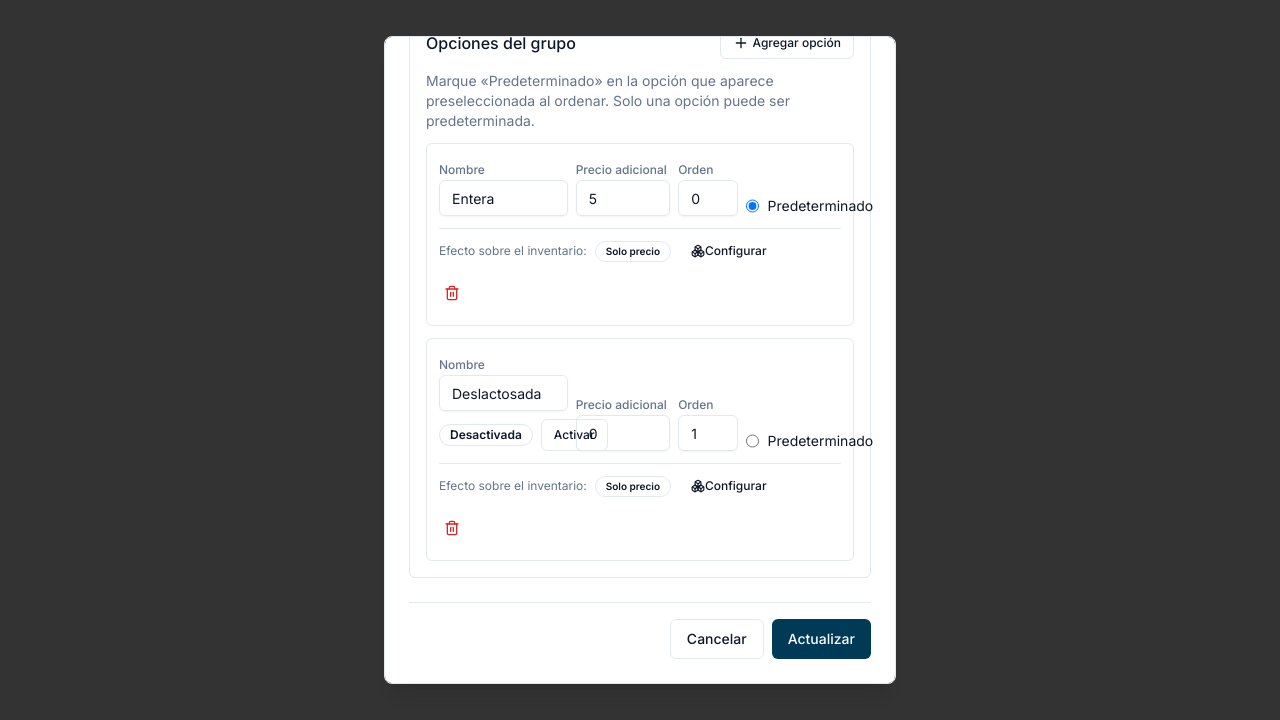
Test case: ModifierGroupForm › inactive option restoration › reactivates the option through its own mutation, separate from the save flow
This screenshot has width=1280, height=720.
(page scrolled)
Click the button with aria-label "Activar opción Deslactosada" at x=574, y=435, box [541, 419, 608, 451]
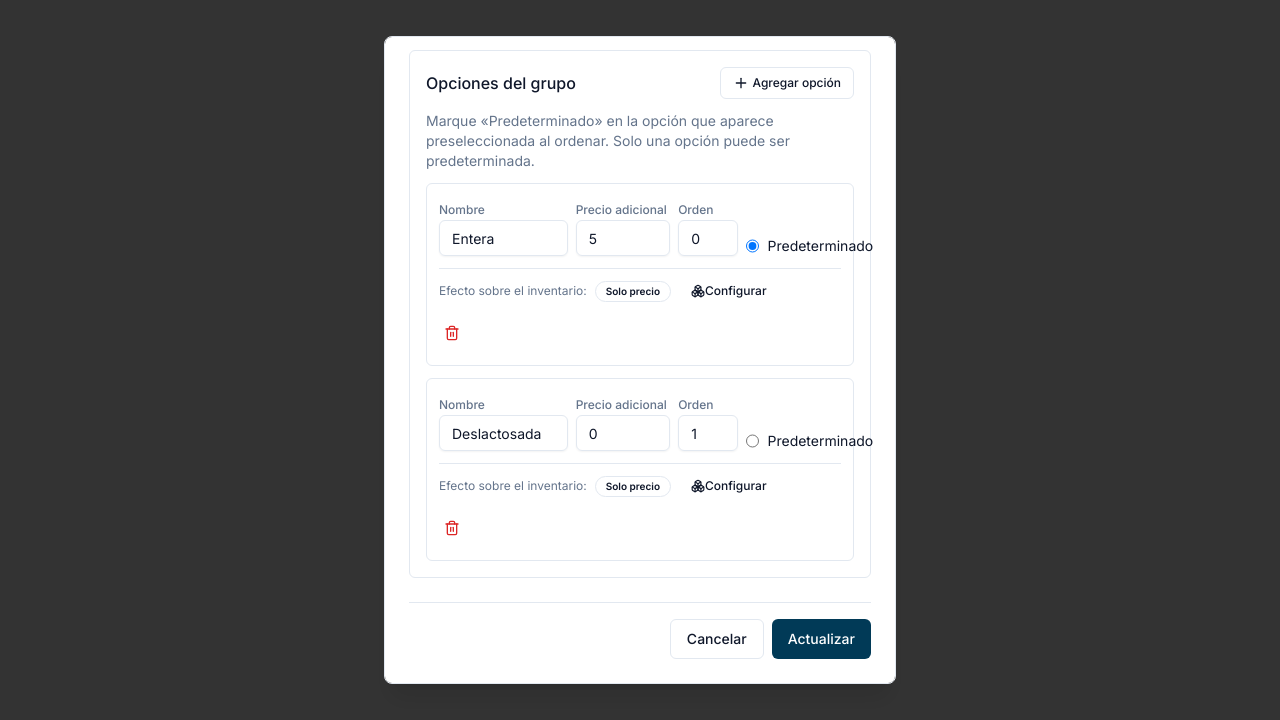
Expected: the text "Desactivada" is gone
